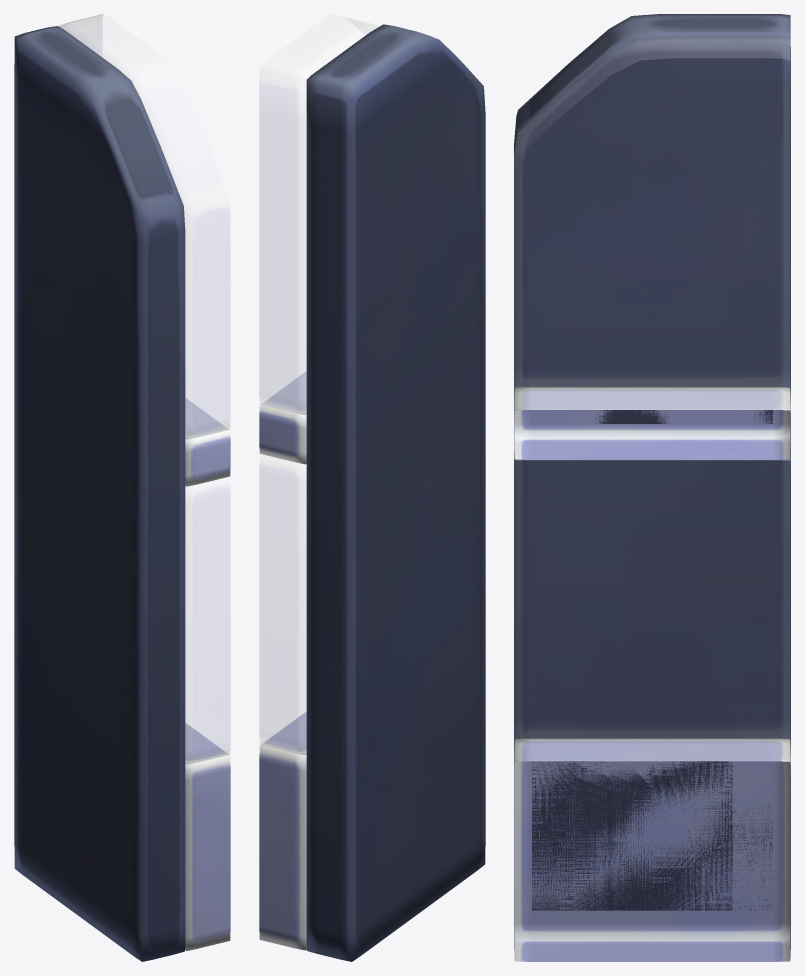
File: LP_ShowcaseWallStart.fbx
3 renders of one model, left to right at view 1: azimuth 30°, elevation 25°; view 2: azimuth 150°, elevation 25°; view 3: azimuth 270°, elevation 25°, orthographic. The views are drawn at different scales.
Parts seen in each view (by area): view 1: LP_ShowcaseWallStart; view 2: LP_ShowcaseWallStart; view 3: LP_ShowcaseWallStart.
Part boxes in pixels (box(x1,y1,x2,y2)): LP_ShowcaseWallStart: box(14, 14, 230, 961); LP_ShowcaseWallStart: box(259, 14, 485, 961); LP_ShowcaseWallStart: box(514, 14, 790, 961).
Size of the model in its own units: 20 by 180 by 50.
